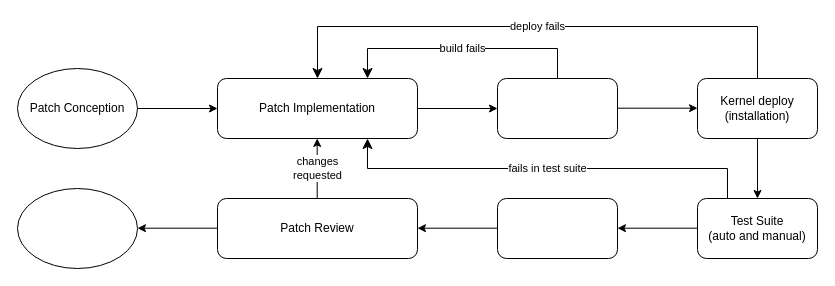
Image size: 835x286. Some labels were removed from this diagram. The centre of each missing label's shape, as x and y in pixels:
"Kernel build (compilation)" goes at (x=557, y=108).
"Patch Merge into Upstream" goes at (x=77, y=228).
"Patch sent to maintainers and mailing lists" goes at (x=557, y=228).
